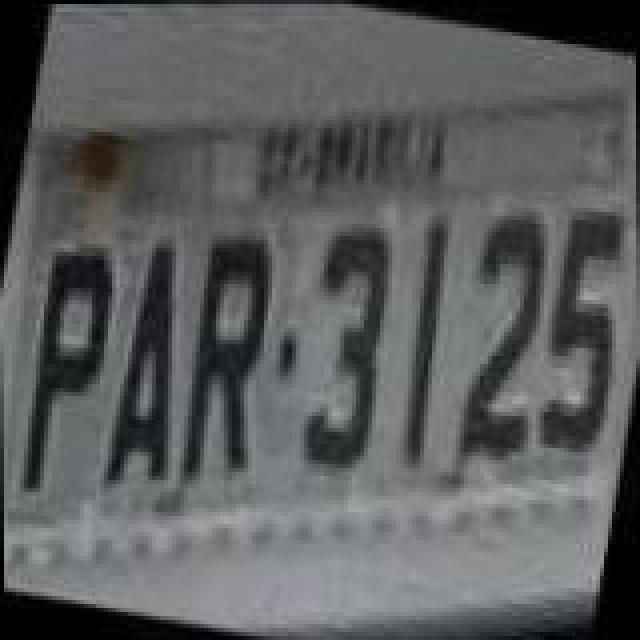1: (378, 212, 470, 476)
2: (440, 200, 568, 460)
3: (280, 214, 408, 478)
5: (520, 196, 640, 460)
A: (92, 232, 212, 500)
P: (2, 236, 126, 508)
R: (162, 222, 294, 498)
